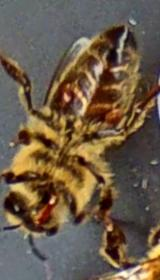varroa_mite: (48, 77, 91, 116), (101, 101, 135, 137)
